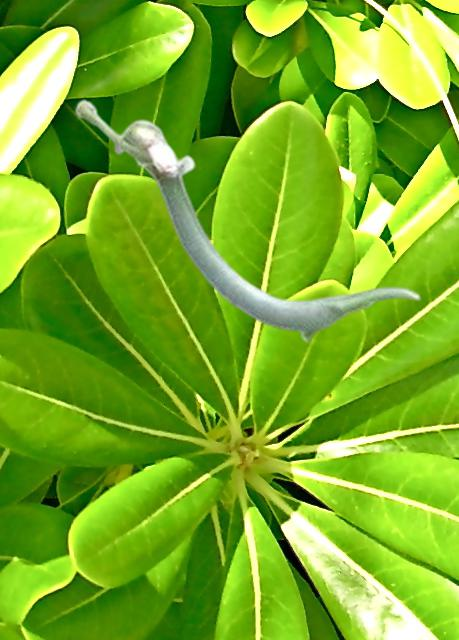french_bean: (74, 98, 420, 342)
